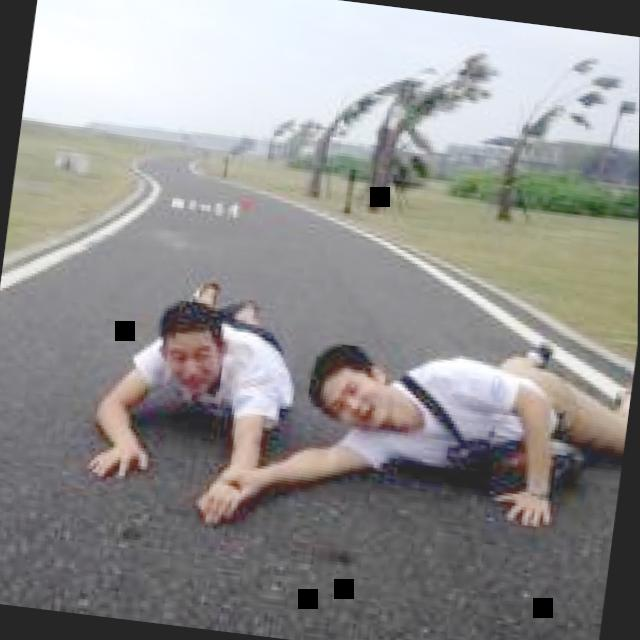Fall-Detected: (216, 299, 637, 556)
